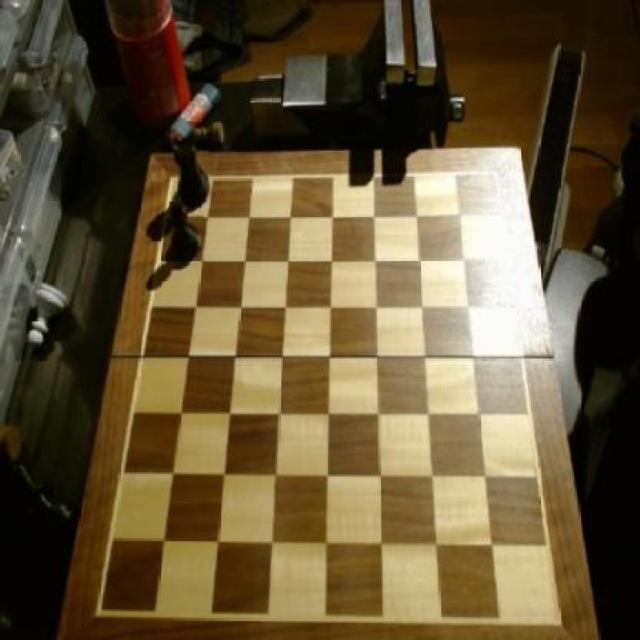black-knight: (169, 202, 204, 266)
black-queen: (172, 140, 210, 210)
